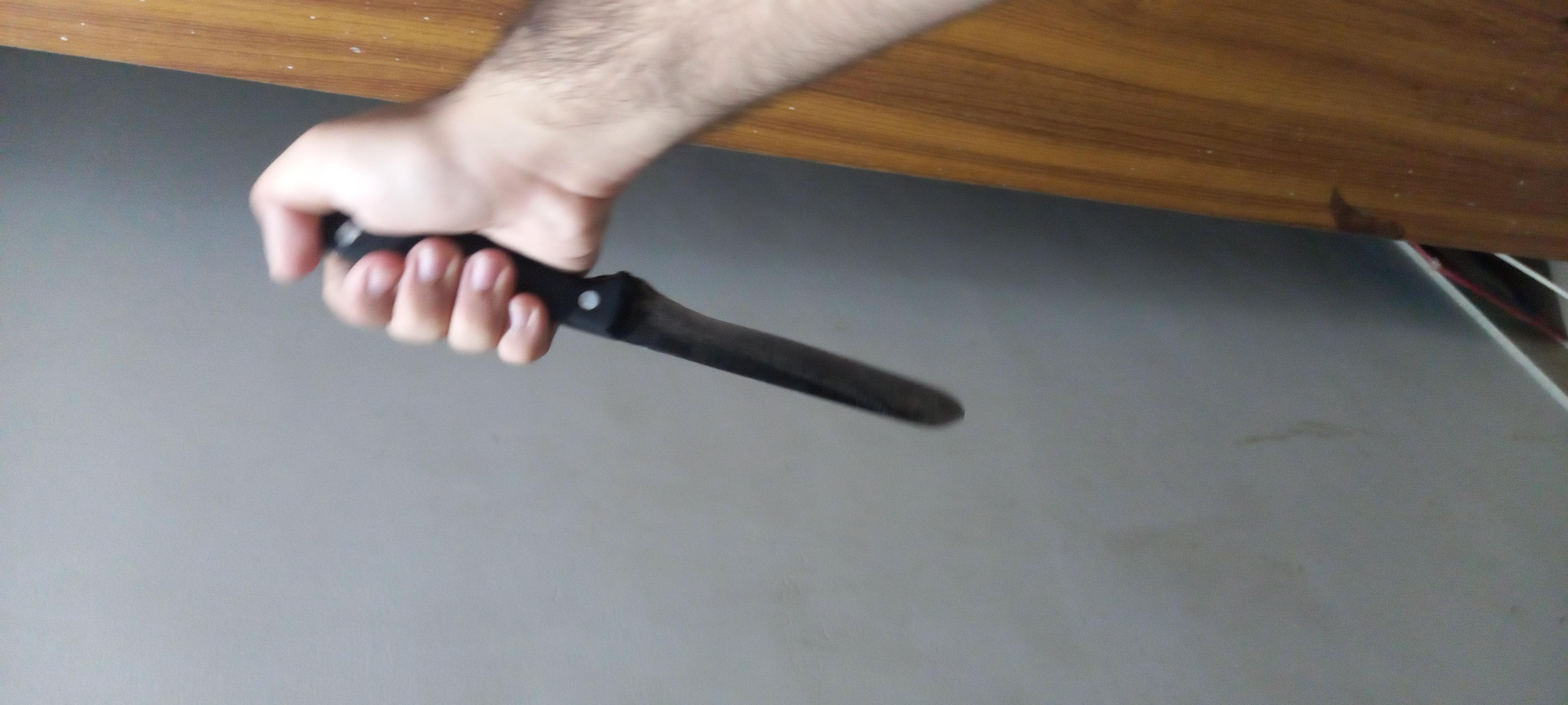knives: (523, 125, 1159, 443)
